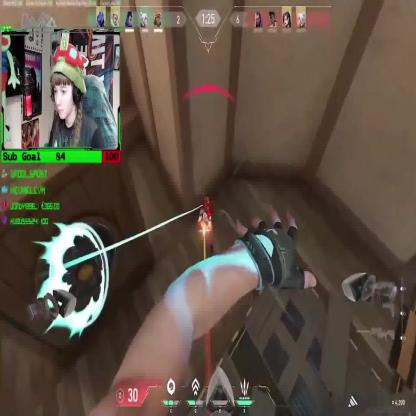enemy: (195, 195, 214, 257)
enemy_head: (204, 198, 210, 212)
